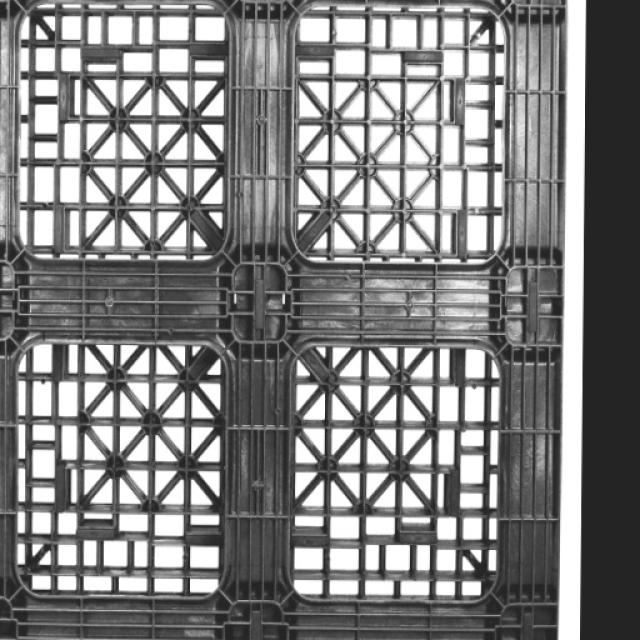non-igps: (0, 0, 576, 639)
